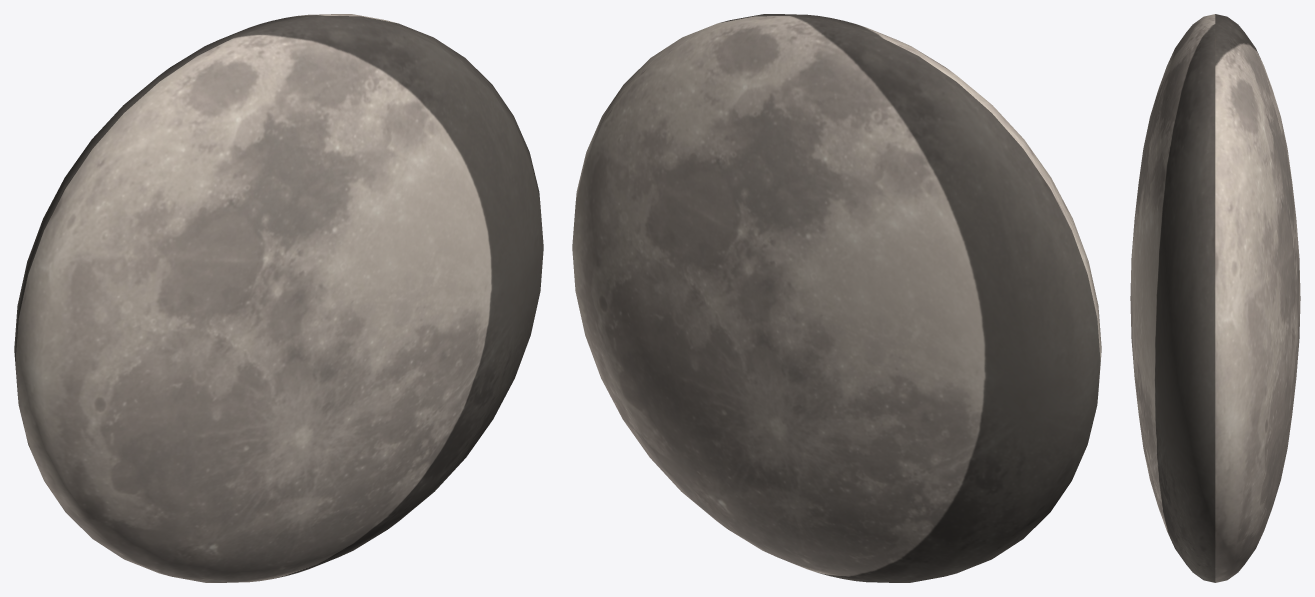
File: SM_MoonPhase6_WaningGibbous.fbx
3 renders of one model, left to right at view 1: azimuth 30°, elevation 25°; view 2: azimuth 150°, elevation 25°; view 3: azimuth 270°, elevation 25°, orthographic. The views are drawn at different scales.
Parts seen in each view (by area): view 1: pSphere6; view 2: pSphere6; view 3: pSphere6.
Boxes of the visible parts, x1,y1,x2,y2 form: pSphere6: [14, 14, 543, 582]; pSphere6: [572, 14, 1101, 582]; pSphere6: [1130, 14, 1300, 582].
Size of the model in its own units: 158 by 158 by 47.13.
